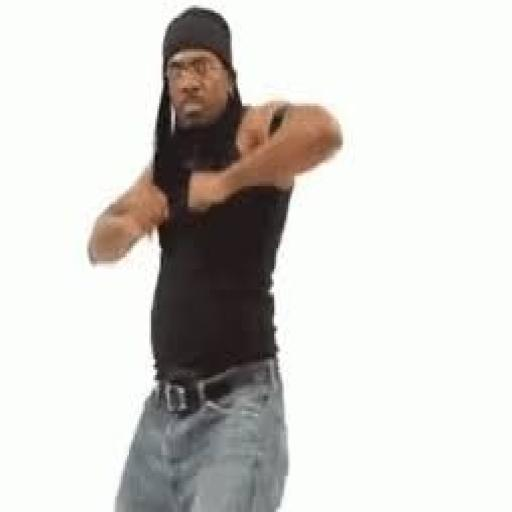dancing: (84, 2, 346, 510)
